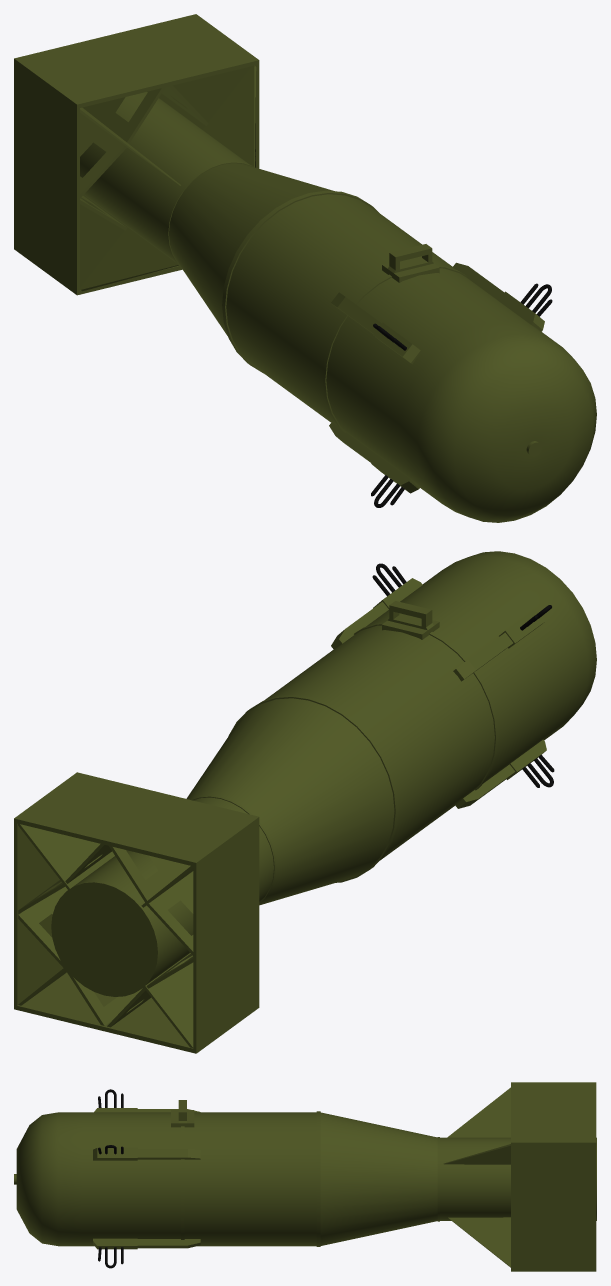
File: Little boy nuclear bomb.fbx
The picture shows the model from 3 angles, top to bottom: view 1: azimuth 30°, elevation 25°; view 2: azimuth 150°, elevation 25°; view 3: azimuth 270°, elevation 25°; orthographic projection. The views are drawn at different scales.
Visible parts, largest first — view 1: Cylinder, Cube, Cube.001, Cube.007, Cube.004, Cube.015, Cube.014, Cube.011, Cube.013; view 2: Cylinder, Cube, Cube.001, Cube.007, Cube.004, Cube.014, Cube.015, Cube.009, Cube.013, Cube.011, Cube.006; view 3: Cylinder, Cube, Cube.002, Cube.011, Cube.012, Cube.001, Cube.015, Cube.014.
Boxes of the visible parts, bbox=[...] form: Cylinder: bbox=[80, 92, 596, 522]; Cube: bbox=[14, 14, 259, 295]; Cube.001: bbox=[80, 65, 256, 291]; Cube.007: bbox=[80, 113, 126, 198]; Cube.004: bbox=[82, 87, 165, 143]; Cube.015: bbox=[382, 244, 439, 282]; Cube.014: bbox=[331, 292, 421, 364]; Cube.011: bbox=[452, 262, 544, 331]; Cube.013: bbox=[329, 422, 419, 493]; Cylinder: bbox=[51, 551, 596, 996]; Cube: bbox=[14, 772, 259, 1053]; Cube.001: bbox=[18, 823, 193, 1047]; Cube.007: bbox=[146, 871, 193, 955]; Cube.004: bbox=[109, 846, 190, 902]; Cube.014: bbox=[453, 609, 544, 681]; Cube.015: bbox=[382, 601, 439, 639]; Cube.009: bbox=[18, 886, 67, 967]; Cube.013: bbox=[455, 739, 546, 808]; Cube.011: bbox=[331, 578, 422, 649]; Cube.006: bbox=[64, 967, 142, 1025]; Cylinder: bbox=[14, 1111, 596, 1246]; Cube: bbox=[511, 1082, 596, 1271]; Cube.002: bbox=[447, 1087, 510, 1267]; Cube.011: bbox=[93, 1147, 200, 1160]; Cube.012: bbox=[93, 1238, 200, 1249]; Cube.001: bbox=[443, 1144, 510, 1164]; Cube.015: bbox=[171, 1100, 194, 1127]; Cube.014: bbox=[94, 1108, 200, 1112].
Size of the model in its own units: 237 by 249 by 971.
